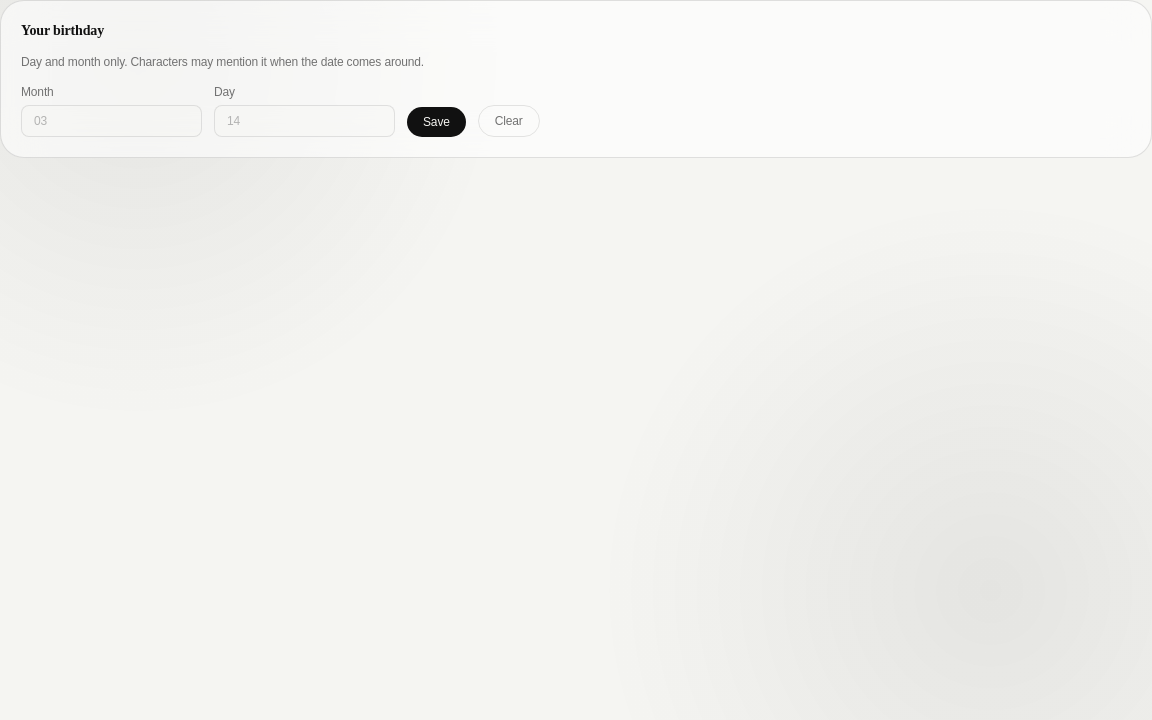
Test case: rejects an impossible date
Type "2" into the field with test id "you-birthday-month" at (112, 121), box [21, 105, 202, 137]
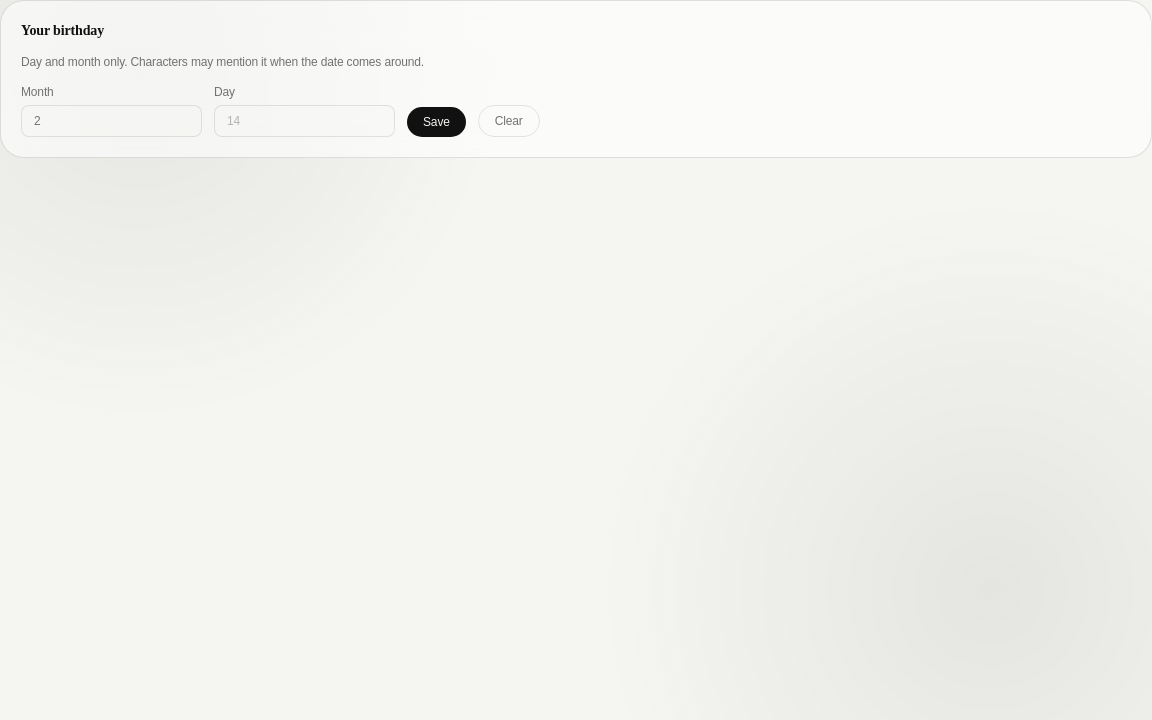
Type "30" into the field with test id "you-birthday-day" at (304, 121), box [214, 105, 395, 137]
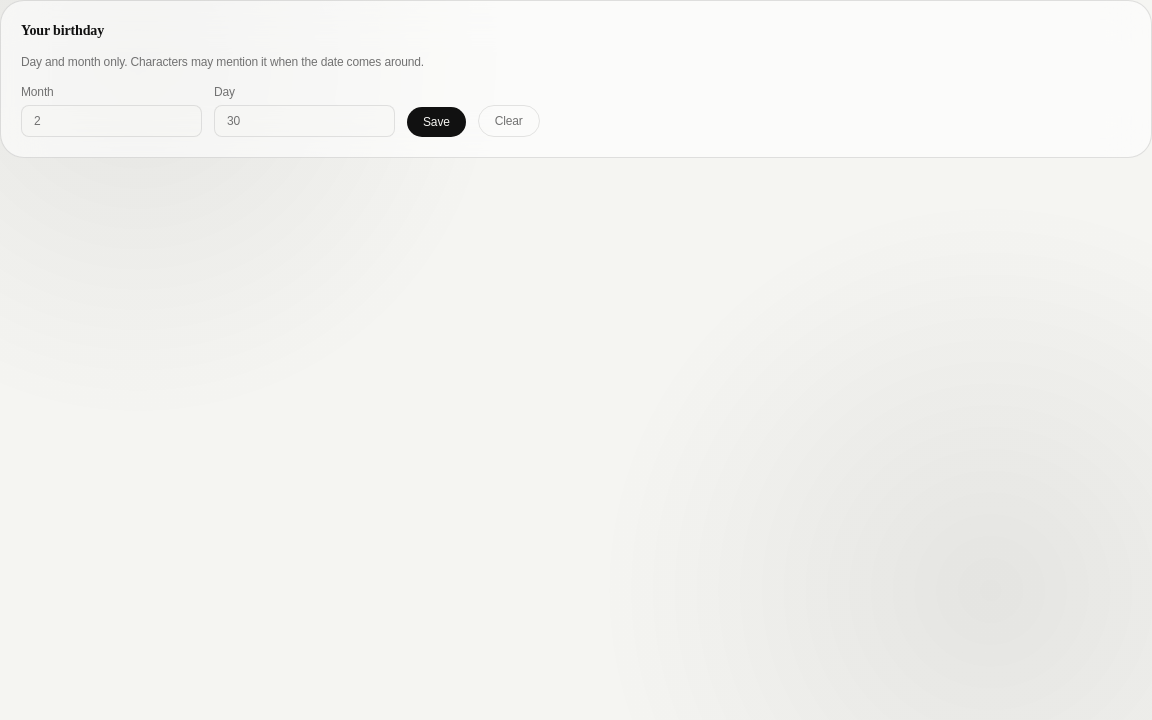
Click the button "Save" at (436, 122), box [407, 107, 466, 137]
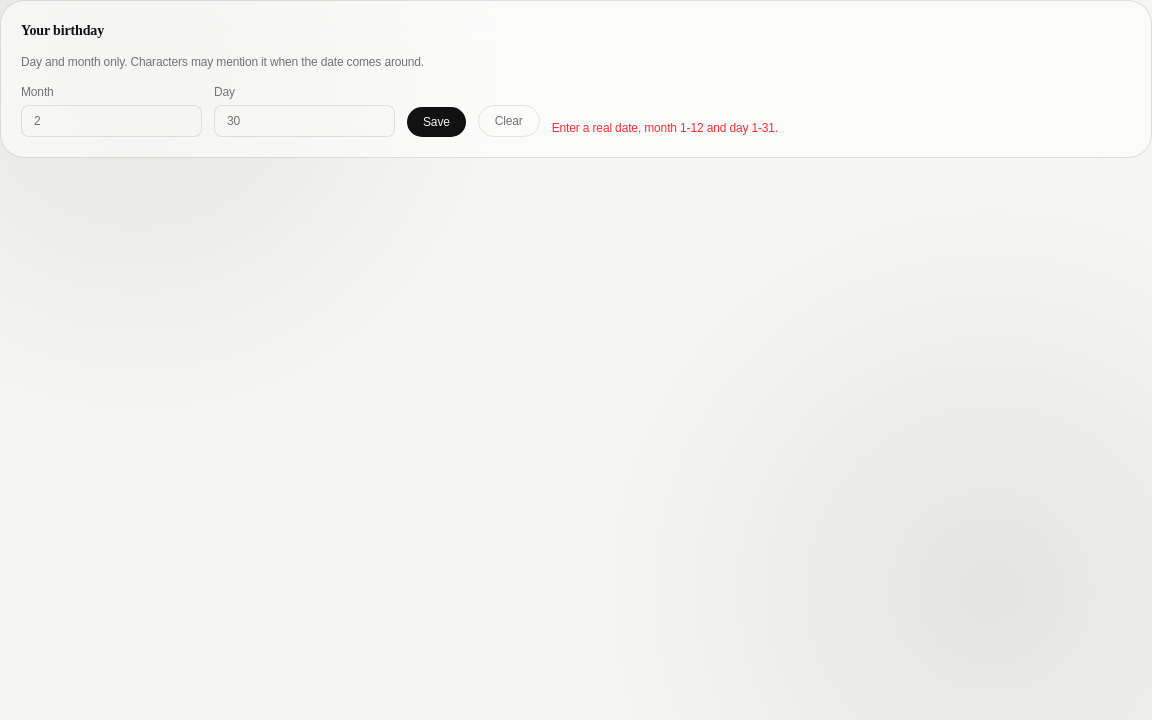
Check: the message "Enter a real date, month 1-12 and day 1-31." is shown, box [552, 119, 778, 137]
